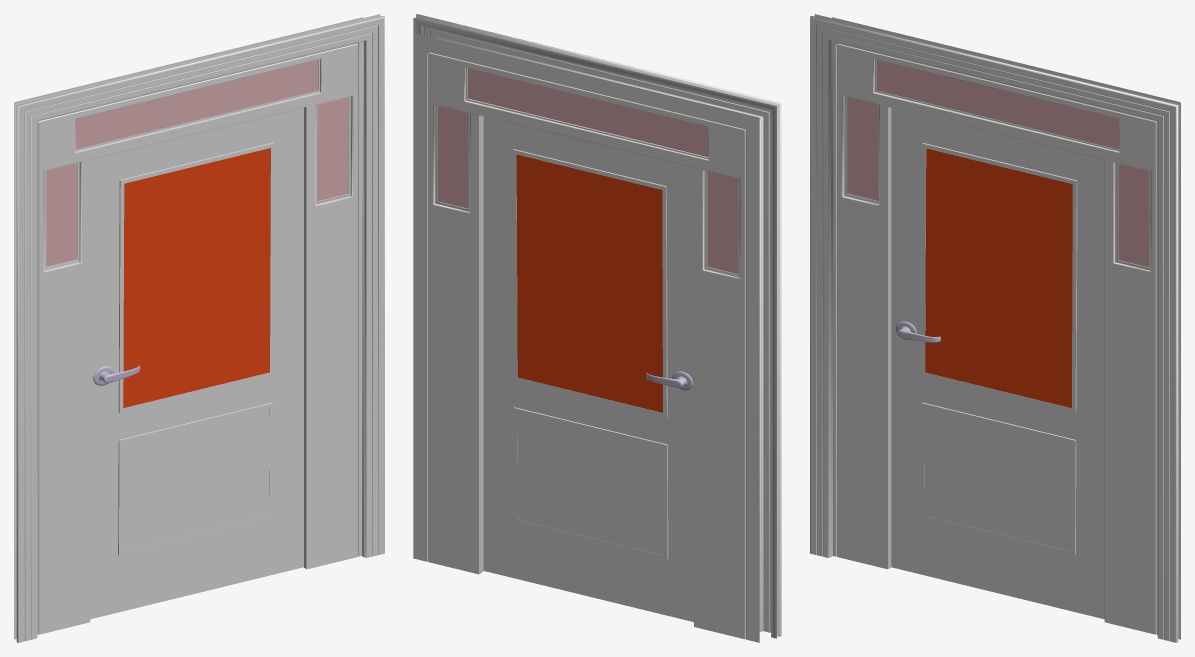
The model's file is Door6.fbx.
3 renders of one model, left to right at view 1: azimuth 30°, elevation 25°; view 2: azimuth 150°, elevation 25°; view 3: azimuth 330°, elevation 25°, orthographic.
Parts seen in each view (by area): view 1: Doorway_LOD0, Door.001, Handle_Back.001; view 2: Doorway_LOD0, Door.001, Handle_Front.001; view 3: Doorway_LOD0, Door.001.
Boxes of the visible parts, x1=… form: Doorway_LOD0: x1=14, y1=14, x2=384, y2=642; Door.001: x1=90, y1=107, x2=303, y2=619; Handle_Back.001: x1=93, y1=365, x2=140, y2=385; Doorway_LOD0: x1=413, y1=14, x2=781, y2=642; Door.001: x1=483, y1=116, x2=693, y2=621; Handle_Front.001: x1=646, y1=371, x2=693, y2=390; Doorway_LOD0: x1=810, y1=14, x2=1180, y2=642; Door.001: x1=891, y1=108, x2=1104, y2=619.
Size of what is drawn, in the model's own units: 251 by 351 by 16.69.
